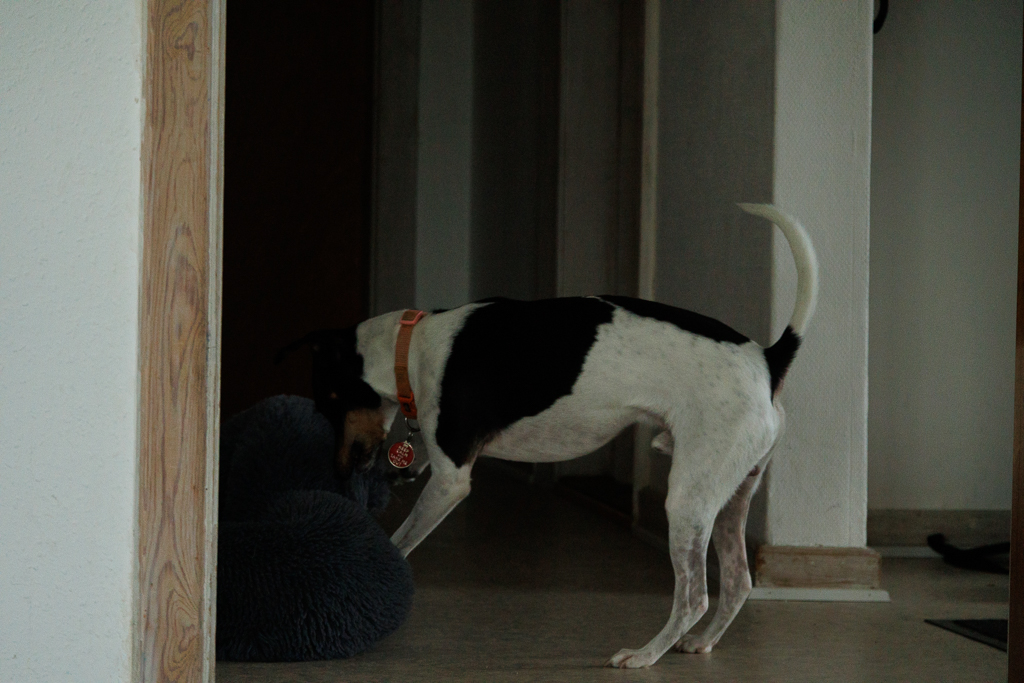Dog: (304, 197, 825, 674)
